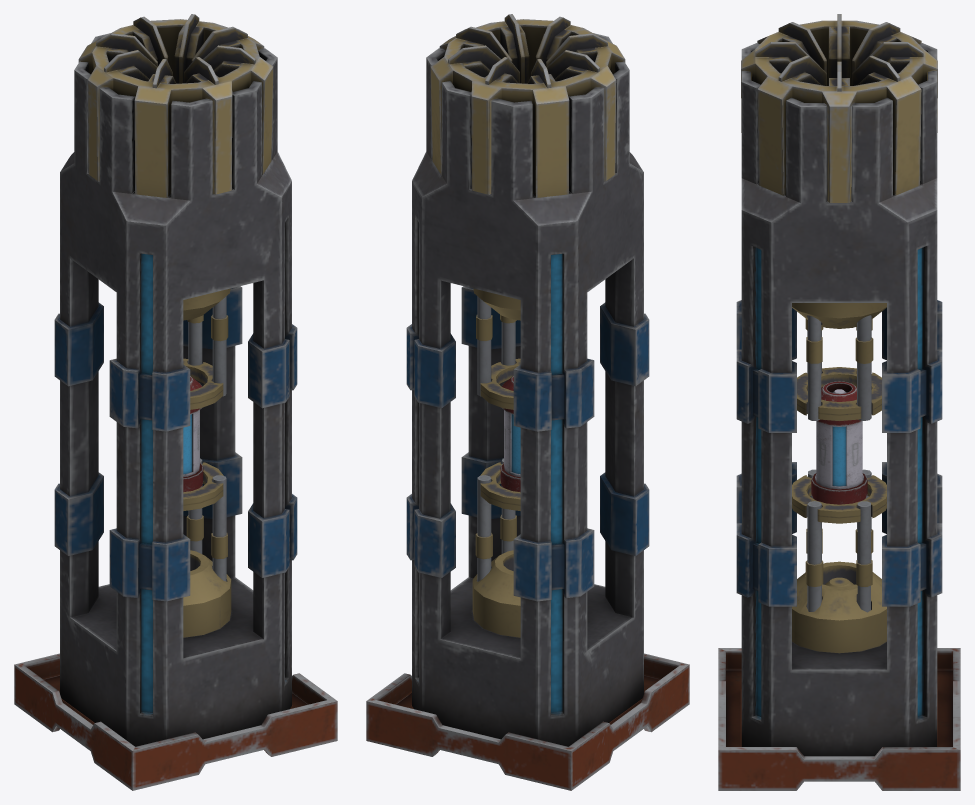
The model's file is Hyper Drive.fbx.
3 views of the same model, side by side, from view 1: azimuth 30°, elevation 25°; view 2: azimuth 150°, elevation 25°; view 3: azimuth 270°, elevation 25° (orthographic). The views are drawn at different scales.
Parts seen in each view (by area): view 1: Base, Power_Core_Support_1, Power_Core_Support_2, Power_Core; view 2: Base, Power_Core_Support_1, Power_Core_Support_2, Power_Core; view 3: Base, Power_Core_Support_2, Power_Core_Support_1, Power_Core.
Part boxes in pixels (x1,y1,x2,y2): Base: (14, 14, 337, 790); Power_Core_Support_1: (183, 296, 228, 409); Power_Core_Support_2: (183, 458, 227, 581); Power_Core: (183, 376, 203, 492); Base: (366, 14, 689, 790); Power_Core_Support_1: (476, 296, 520, 409); Power_Core_Support_2: (475, 458, 520, 581); Power_Core: (500, 376, 520, 492); Base: (718, 14, 960, 790); Power_Core_Support_2: (792, 469, 886, 612); Power_Core_Support_1: (797, 315, 881, 420); Power_Core: (811, 381, 867, 504).
Size of the model in its own units: 33.87 by 107 by 33.87.
